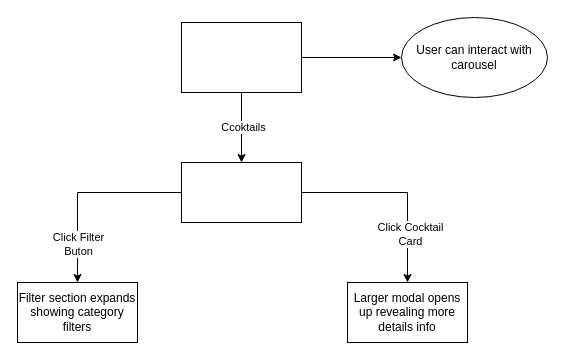
Image size: 565x360. Some labels were removed from this diagram. Here are the shapes that lost their labels. From the top down, the centre of each, then its label:
At point (241, 57): "Landing Page (Fetch Data)".
At point (241, 192): "Cocktails Page (Fetch Data)".
